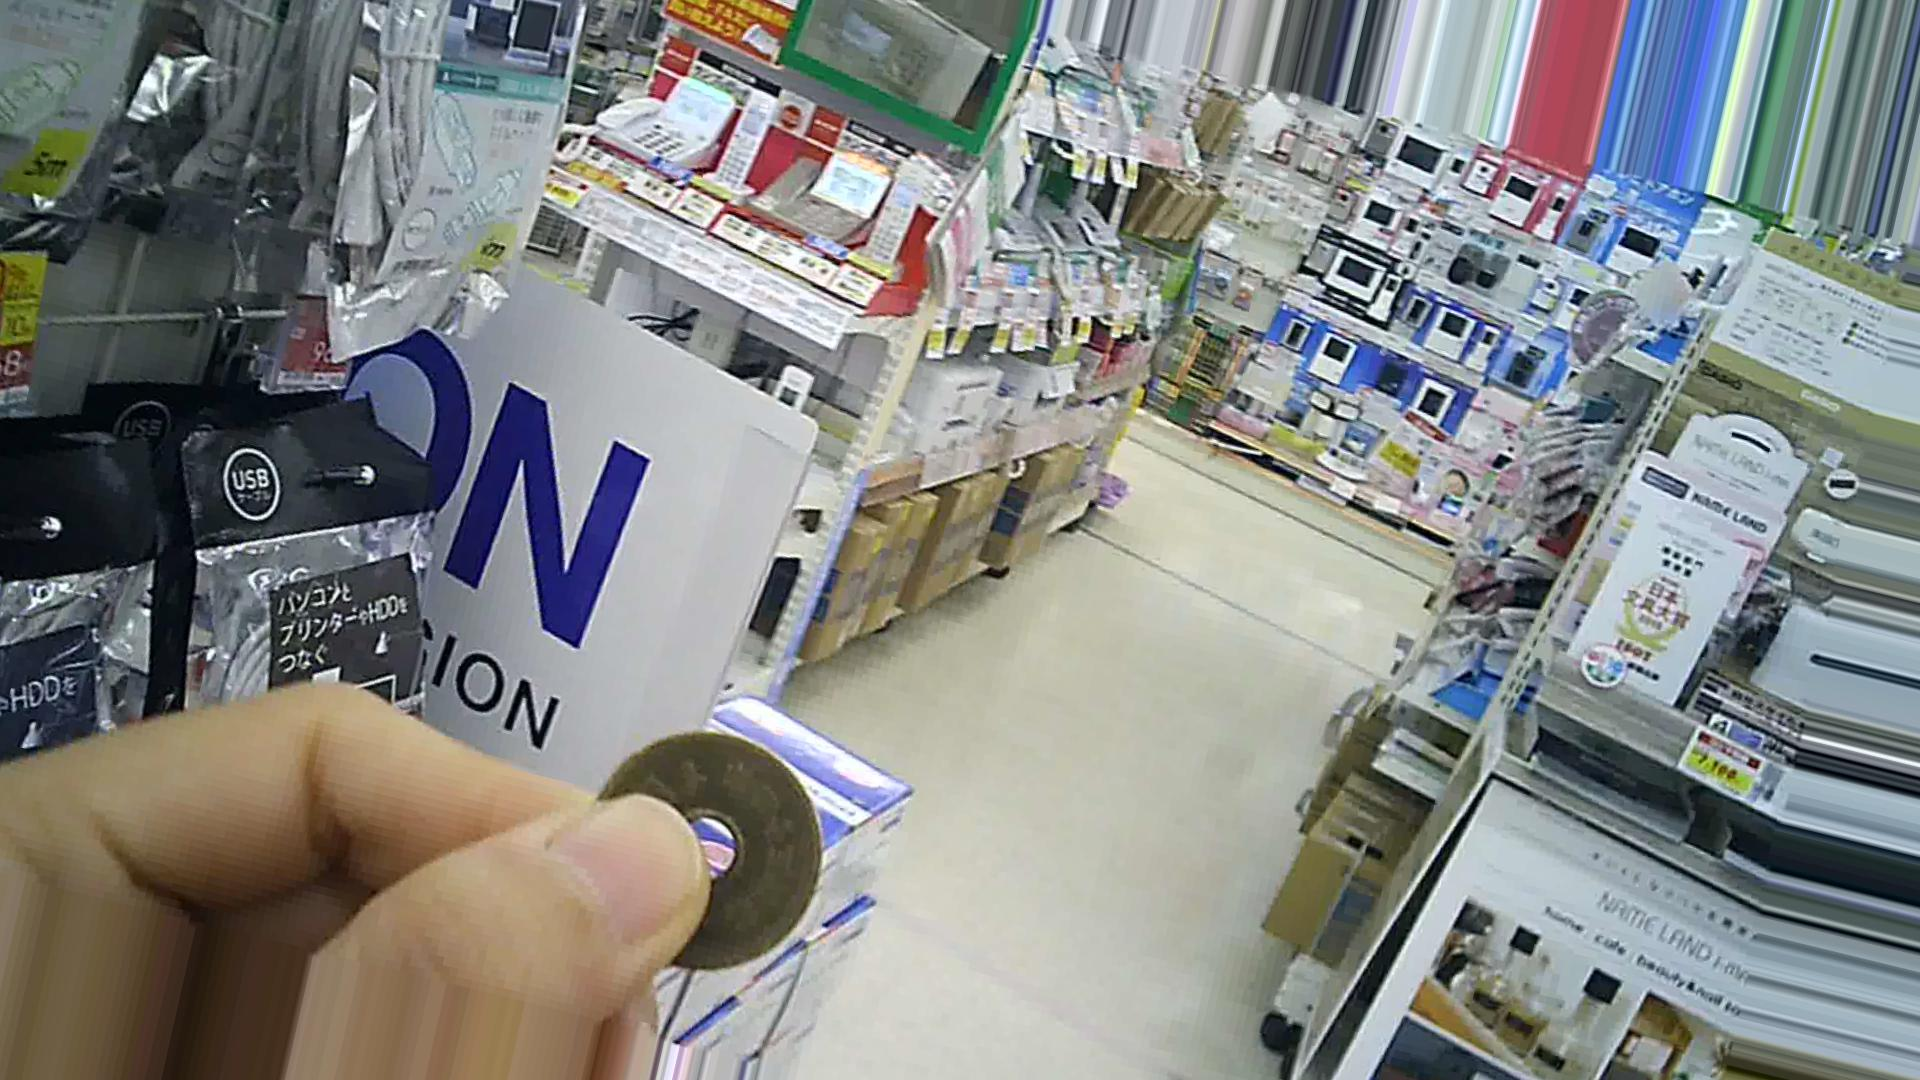5 Yen: (585, 728, 823, 978)
